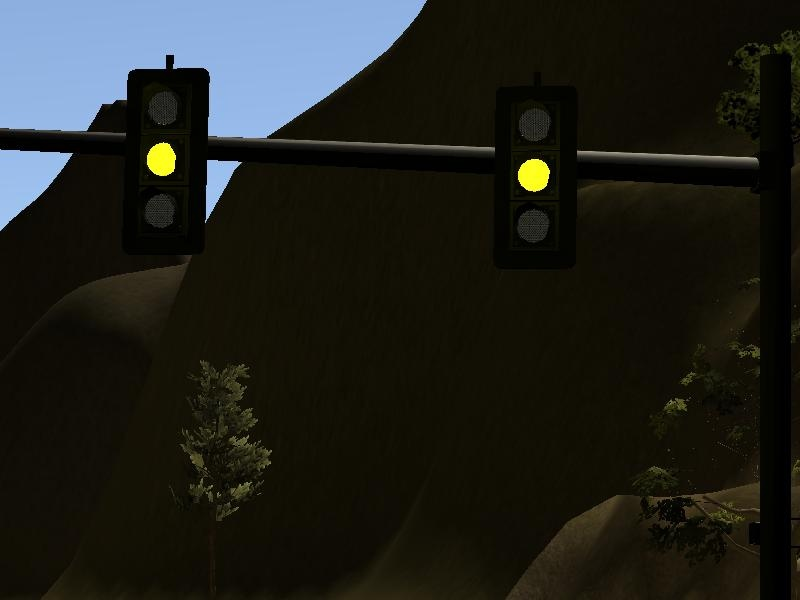yellow: (475, 69, 592, 281), (112, 50, 217, 263)
